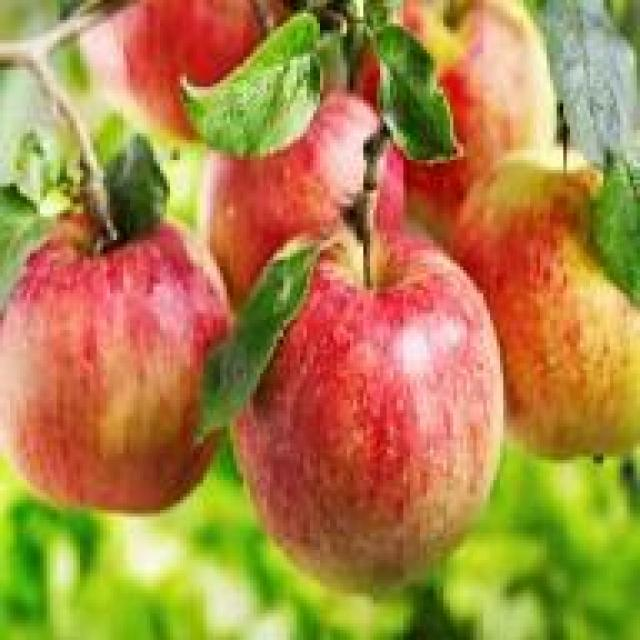apple: (230, 256, 507, 596), (7, 230, 220, 507), (463, 160, 637, 460), (193, 86, 417, 306), (360, 13, 570, 237), (83, 10, 280, 167)
